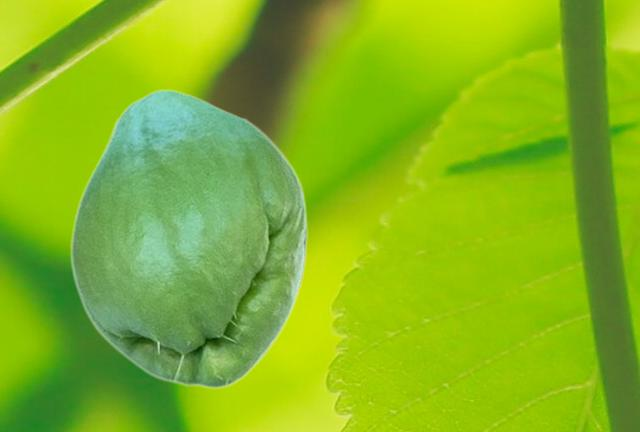sayote: (69, 89, 307, 389)
